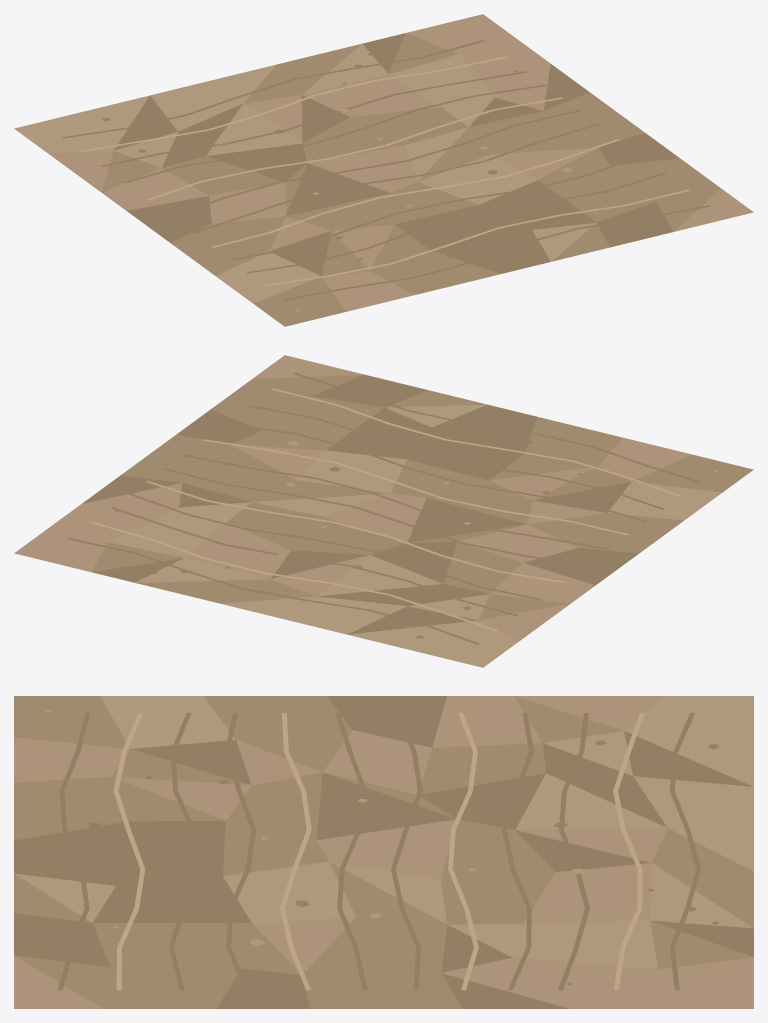
File: 10_Sand_Ripples.fbx
The picture shows the model from 3 angles, top to bottom: view 1: azimuth 30°, elevation 25°; view 2: azimuth 150°, elevation 25°; view 3: azimuth 270°, elevation 25°; orthographic projection. The views are drawn at different scales.
Visible parts, largest first — view 1: 10_Sand_Ripples; view 2: 10_Sand_Ripples; view 3: 10_Sand_Ripples.
Part boxes in pixels (x1,y1,x2,y2): 10_Sand_Ripples: [14, 14, 753, 326]; 10_Sand_Ripples: [14, 355, 753, 667]; 10_Sand_Ripples: [14, 696, 753, 1008].
Size of the model in its own units: 800 by 1.6 by 800.
Materials: 1 (1 with a texture image).
